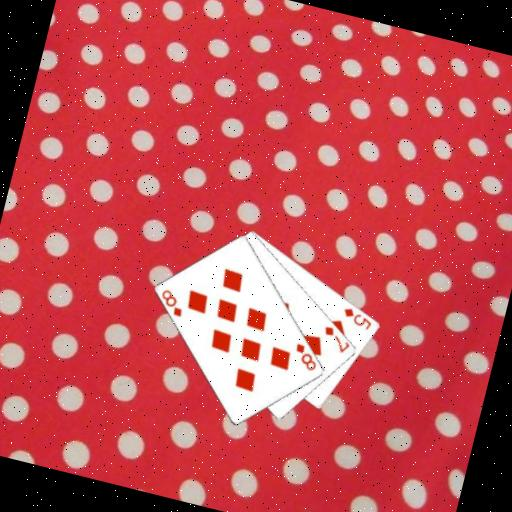5D: (338, 304, 376, 333)
7D: (317, 322, 355, 356)
8D: (288, 339, 323, 374), (155, 285, 189, 319)
